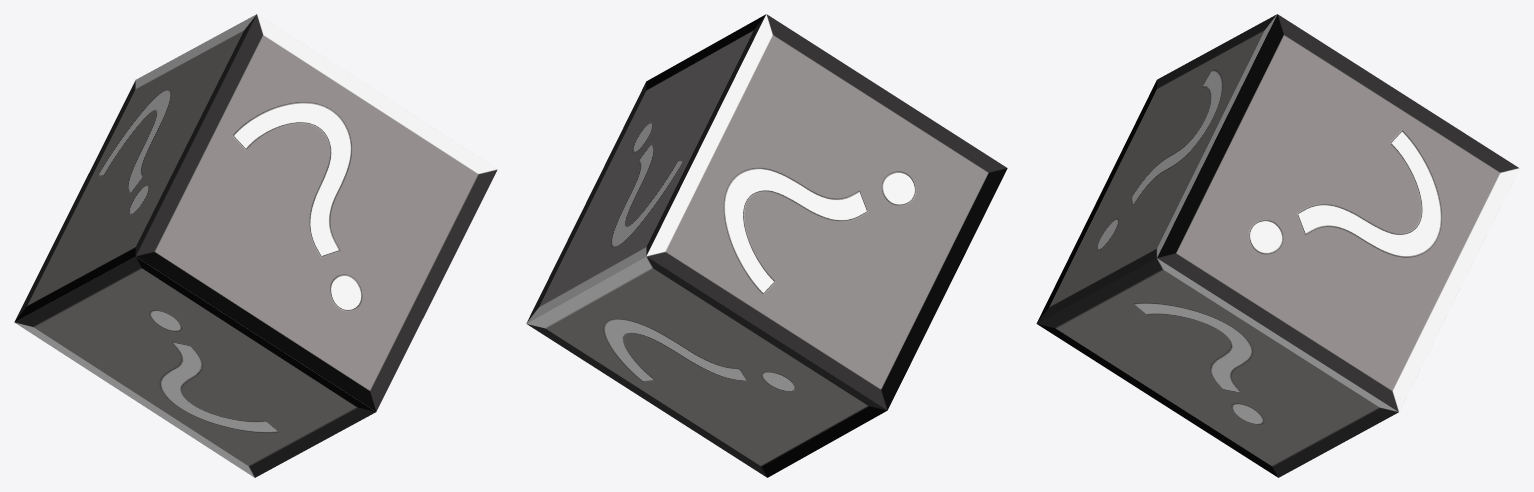
The model's file is hatena.FBX.
3 views of the same model, side by side, from view 1: azimuth 30°, elevation 25°; view 2: azimuth 150°, elevation 25°; view 3: azimuth 270°, elevation 25° (orthographic).
Parts seen in each view (by area): view 1: Box001; view 2: Box001; view 3: Box001.
Part boxes in pixels (box(x1,y1,x2,y2)): Box001: box(14, 14, 497, 477); Box001: box(526, 14, 1007, 477); Box001: box(1036, 14, 1519, 477).
Bounding box in the file's own units: 55.76 × 68.19 × 64.24.
1 material, 1 textured.
